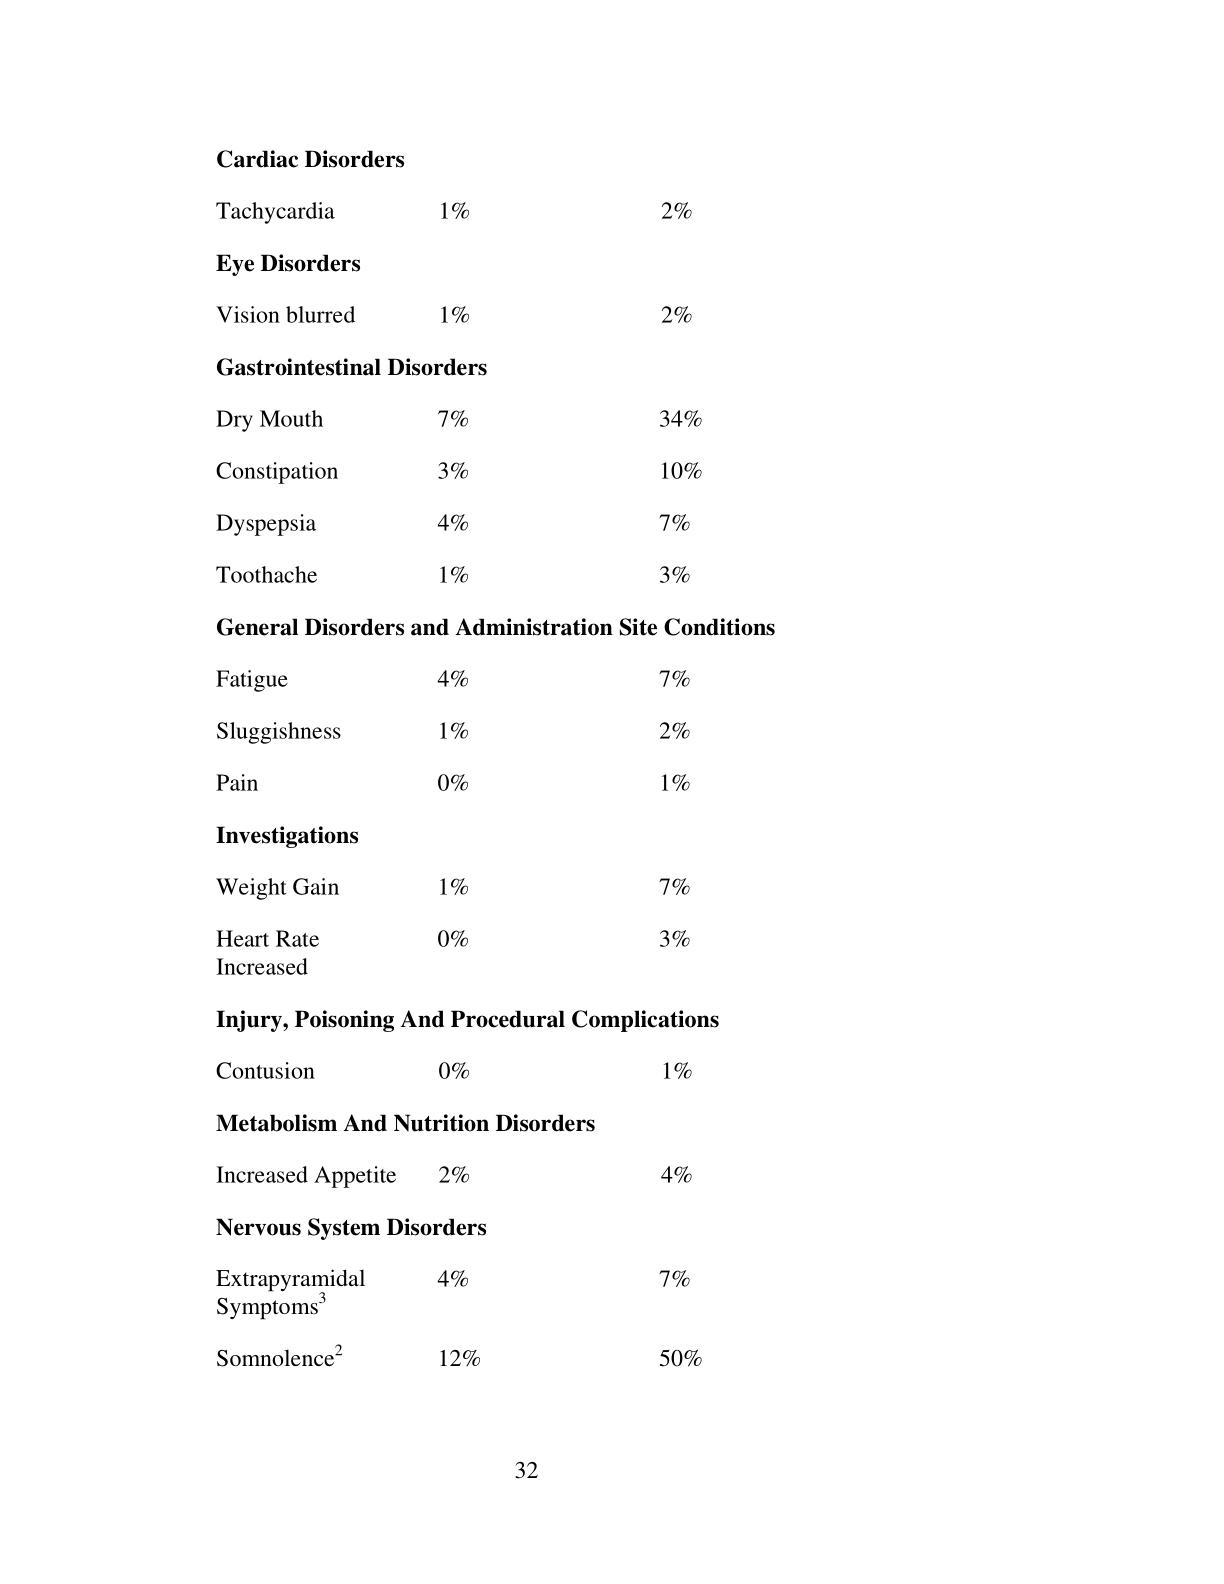nolines: (211, 144, 779, 1372)
